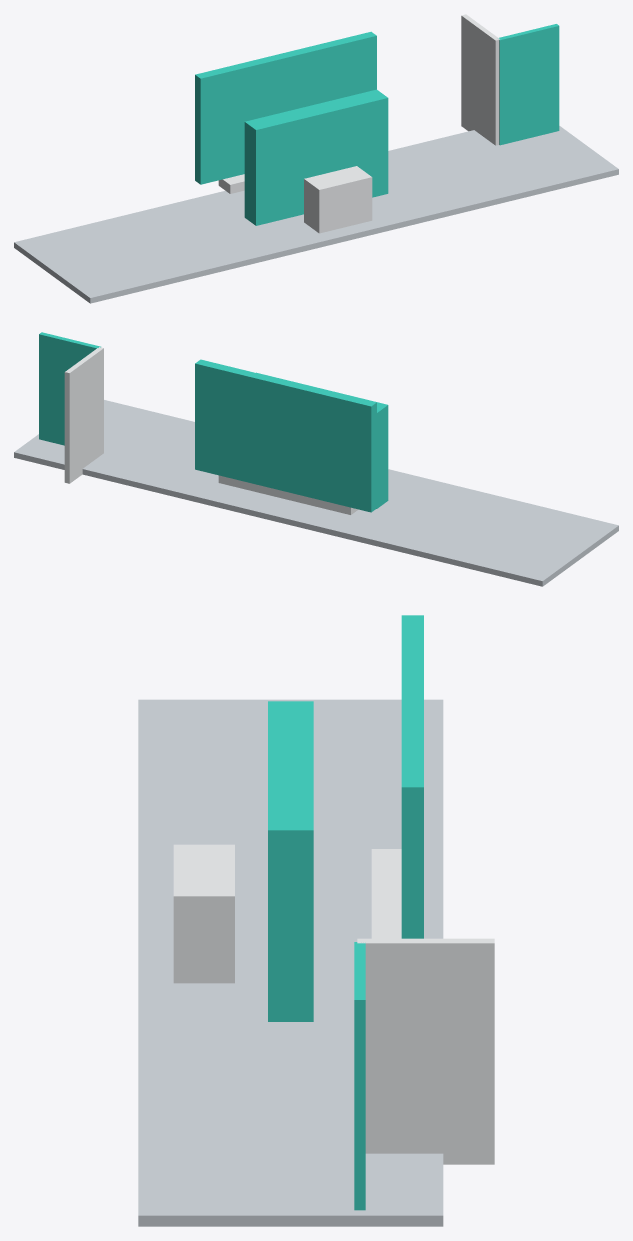
3 renders of one model, top to bottom at view 1: azimuth 30°, elevation 25°; view 2: azimuth 150°, elevation 25°; view 3: azimuth 270°, elevation 25°, orthographic. The views are drawn at different scales.
Parts seen in each view (by area): view 1: Exhibition Booth Concept; view 2: Exhibition Booth Concept; view 3: Exhibition Booth Concept.
Boxes of the visible parts, bbox=[...] form: Exhibition Booth Concept: bbox=[14, 14, 618, 303]; Exhibition Booth Concept: bbox=[14, 332, 618, 586]; Exhibition Booth Concept: bbox=[138, 615, 494, 1226].
Bounding box in the file's own units: 12 × 2.9 × 3.51.
